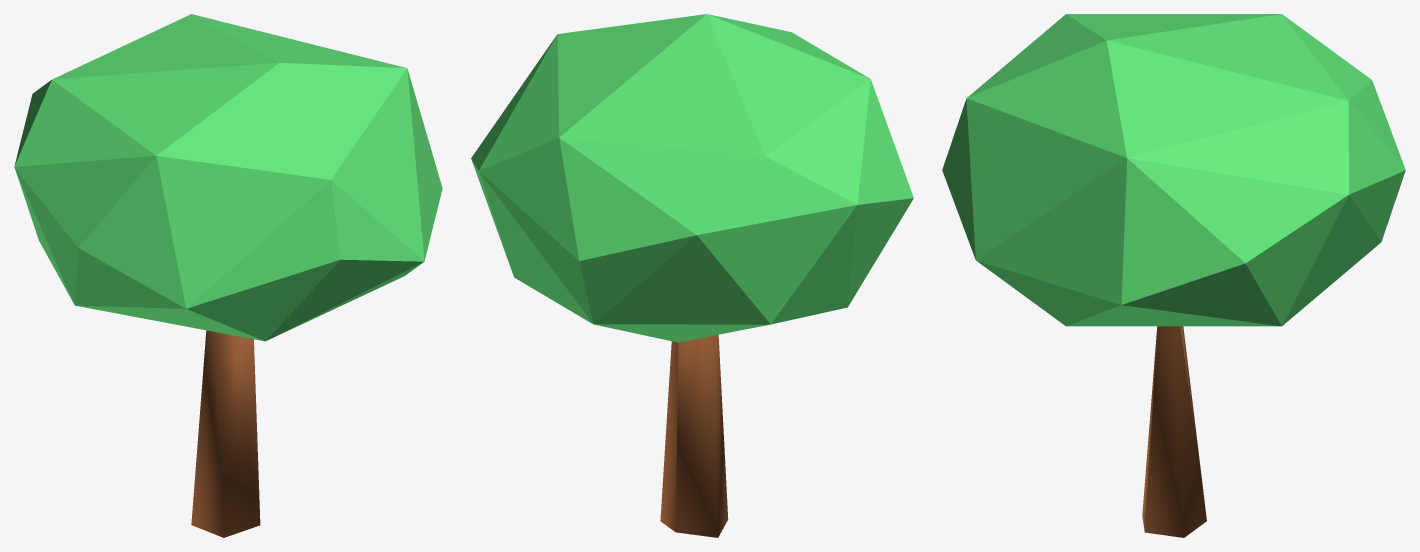
Rendered from Tree2.fbx.
The picture shows the model from 3 angles, left to right: view 1: azimuth 30°, elevation 25°; view 2: azimuth 150°, elevation 25°; view 3: azimuth 270°, elevation 25°; orthographic projection. The views are drawn at different scales.
Visible parts, largest first — view 1: Cylinder; view 2: Cylinder; view 3: Cylinder.
Part boxes in pixels (box(x1,y1,x2,y2)): Cylinder: box(14, 14, 442, 537); Cylinder: box(471, 14, 913, 537); Cylinder: box(942, 14, 1405, 537).
Size of the model in its own units: 636 by 770 by 654.
